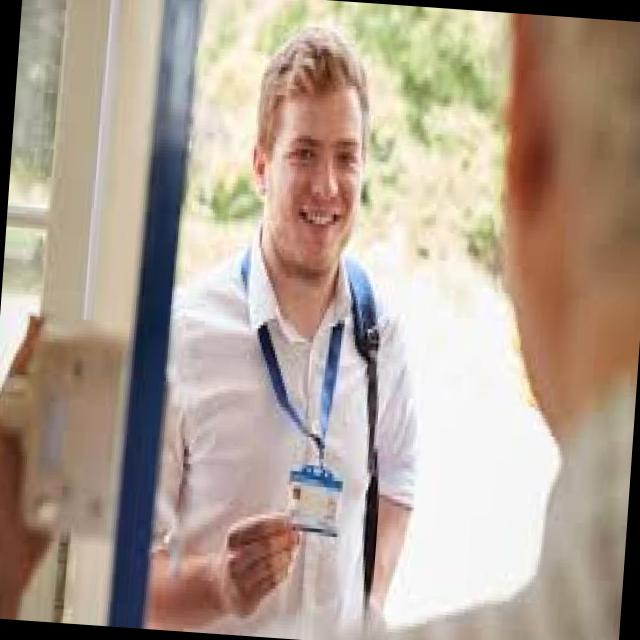id_card: (230, 244, 372, 538)
